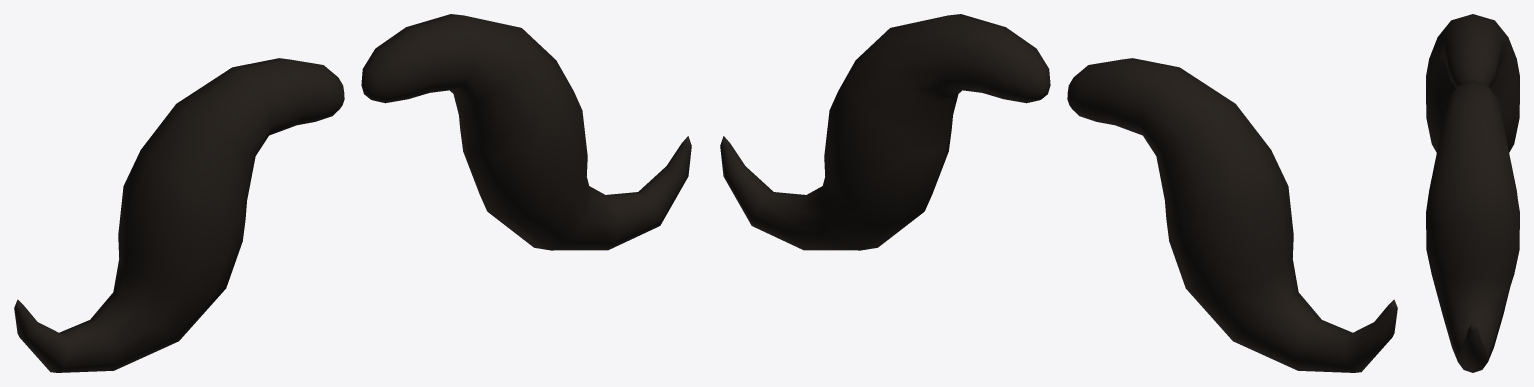
Rendered from Beard_07_01.fbx.
3 renders of one model, left to right at view 1: azimuth 30°, elevation 25°; view 2: azimuth 150°, elevation 25°; view 3: azimuth 270°, elevation 25°, orthographic. The views are drawn at different scales.
Visible parts, largest first — view 1: Beard_07_01; view 2: Beard_07_01; view 3: Beard_07_01.
Boxes of the visible parts, x1,y1,x2,y2 form: Beard_07_01: (14, 14, 691, 372); Beard_07_01: (720, 14, 1397, 372); Beard_07_01: (1426, 14, 1519, 372).
Size of the model in its own units: 18.3 by 6.9 by 2.82.
